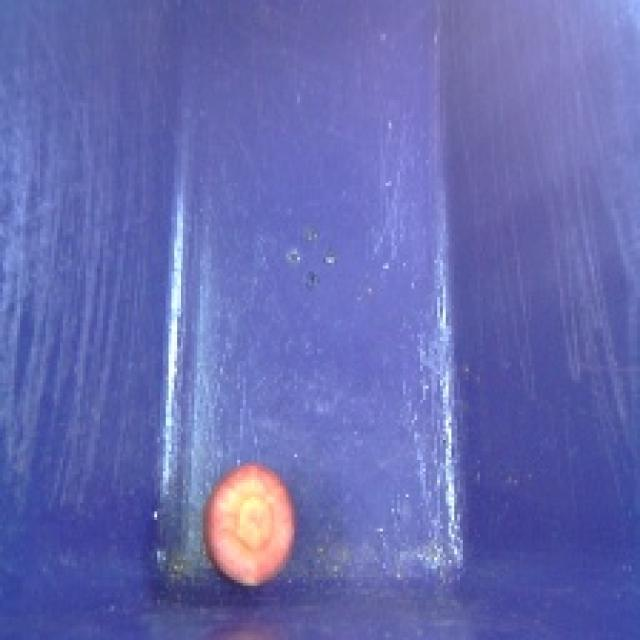carrots: (198, 456, 304, 592)
